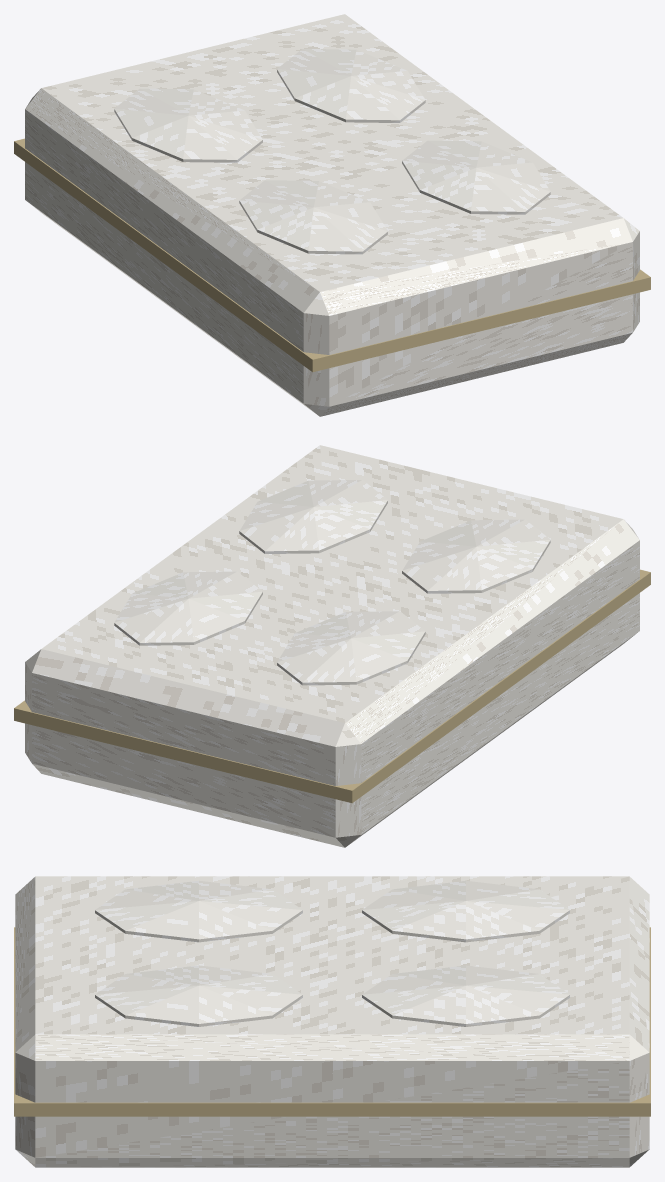
The model's file is tr_down_mattress.glb.
The picture shows the model from 3 angles, top to bottom: view 1: azimuth 30°, elevation 25°; view 2: azimuth 150°, elevation 25°; view 3: azimuth 270°, elevation 25°; orthographic projection. The views are drawn at different scales.
Visible parts, largest first — view 1: block_pad, block_puff (×4), block_piping; view 2: block_pad, block_puff (×4), block_piping; view 3: block_pad, block_puff (×4), block_piping.
Boxes of the visible parts, x1,y1,x2,y2 form: block_pad: [25, 14, 639, 416]; block_puff (×4): [114, 49, 550, 254]; block_piping: [14, 138, 650, 372]; block_pad: [25, 445, 639, 847]; block_puff (×4): [114, 480, 550, 685]; block_piping: [14, 569, 650, 803]; block_pad: [15, 876, 649, 1167]; block_puff (×4): [95, 880, 569, 1026]; block_piping: [14, 927, 650, 1116].
Bounding box in the file's own units: 0.624 × 0.24 × 0.954.
1 material, 1 textured.
